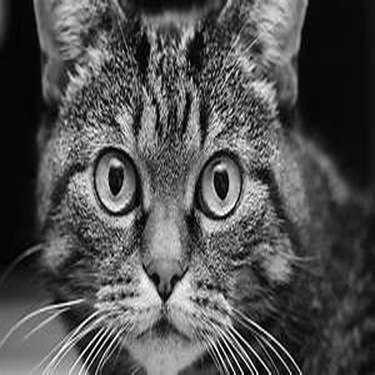cat: (33, 1, 370, 367)
